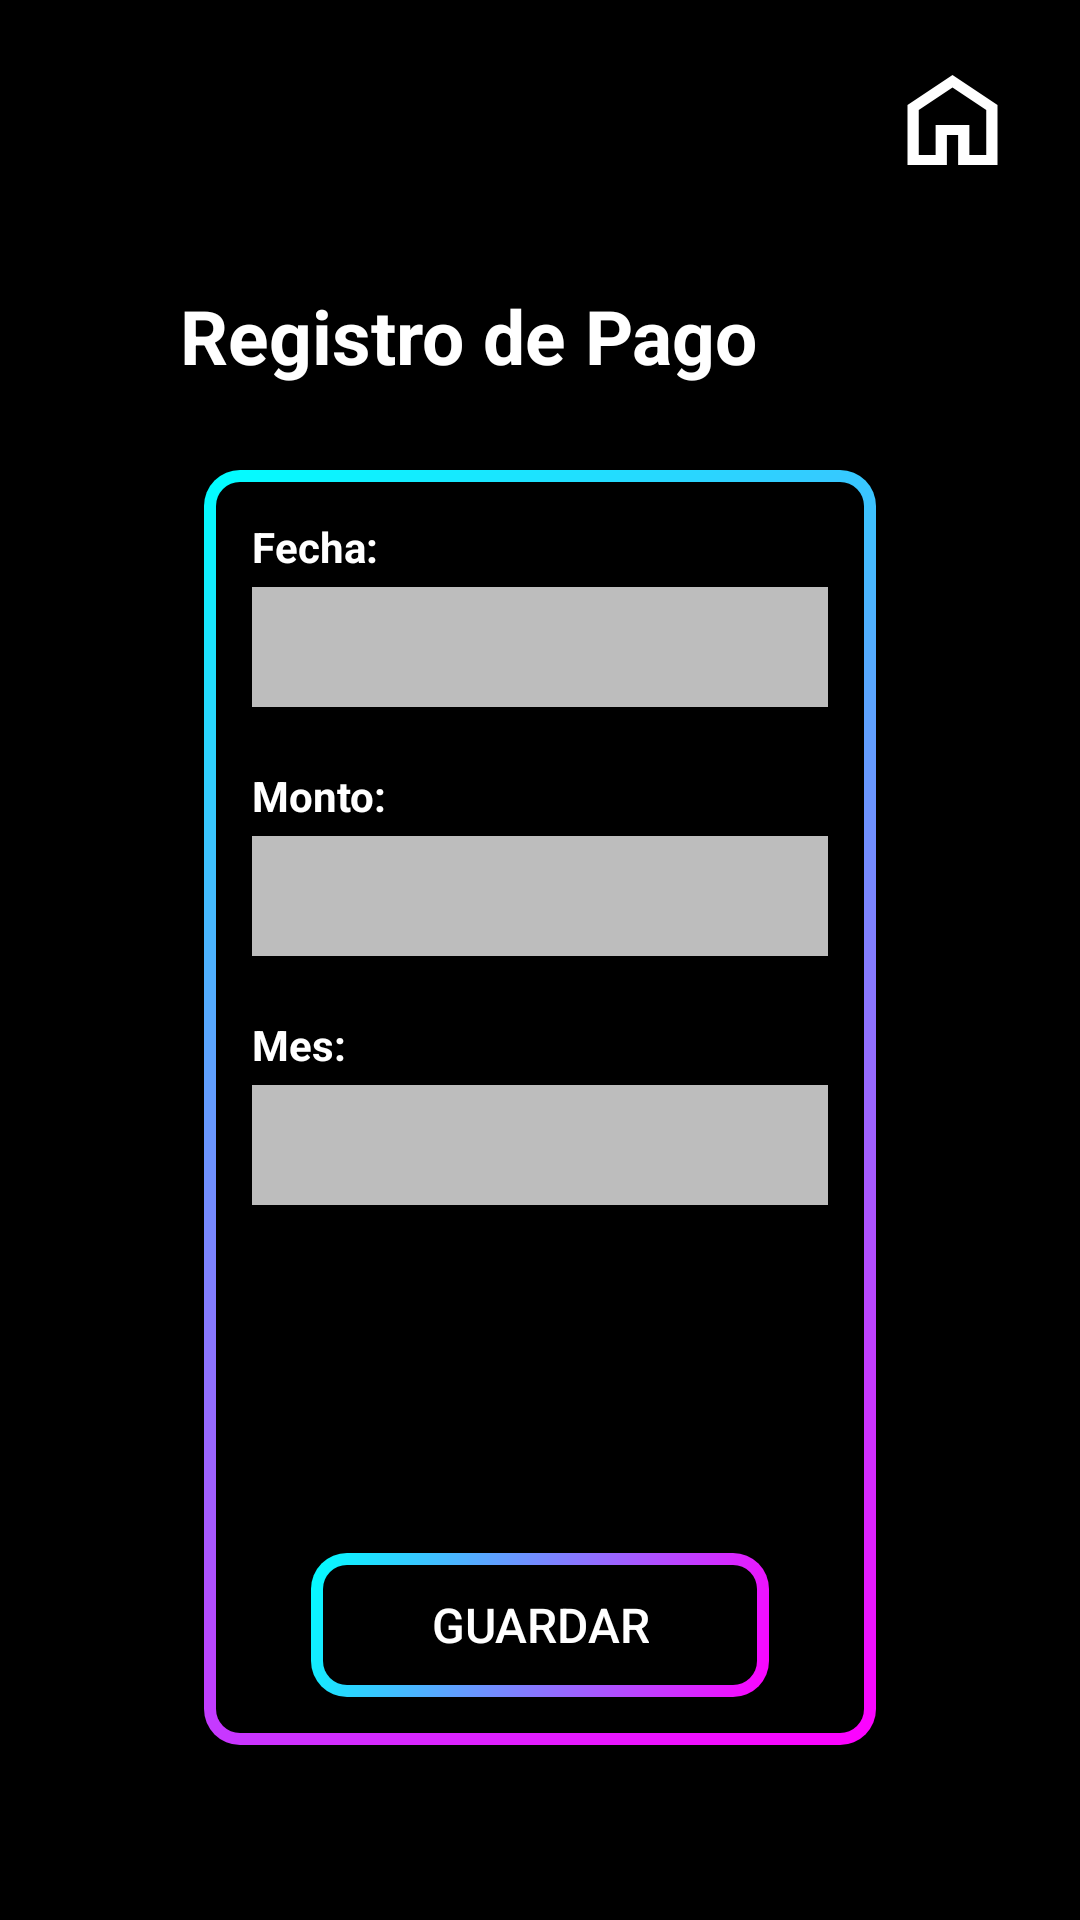

Icon click points for this 1080 x 1920 phone screenshot, format (x,y):
home: (952,120)
